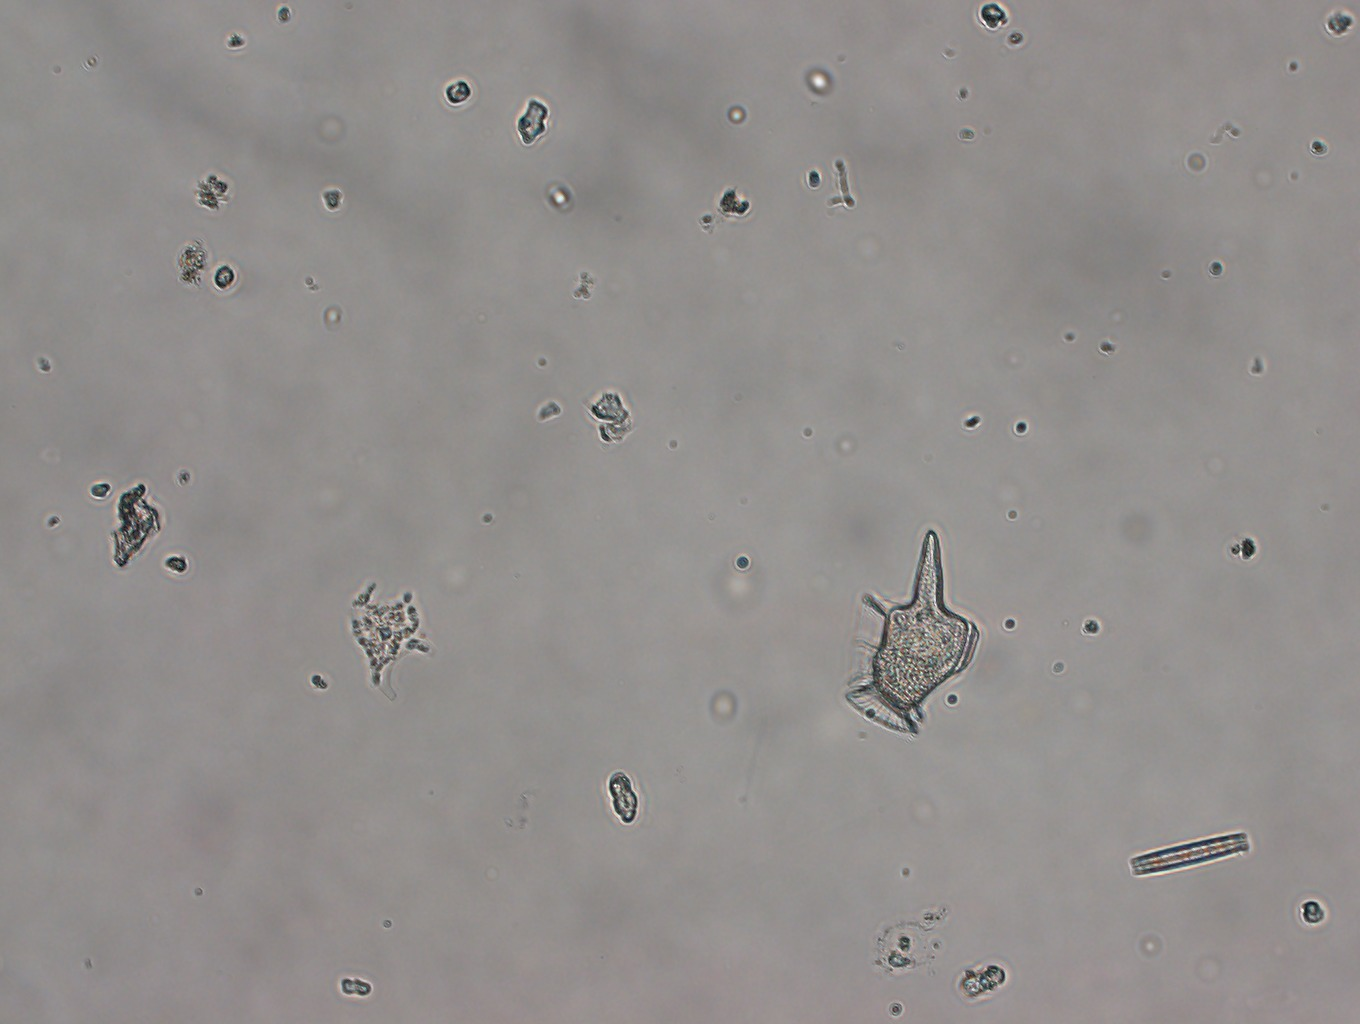dinophysis caudata: (829, 520, 983, 745)
